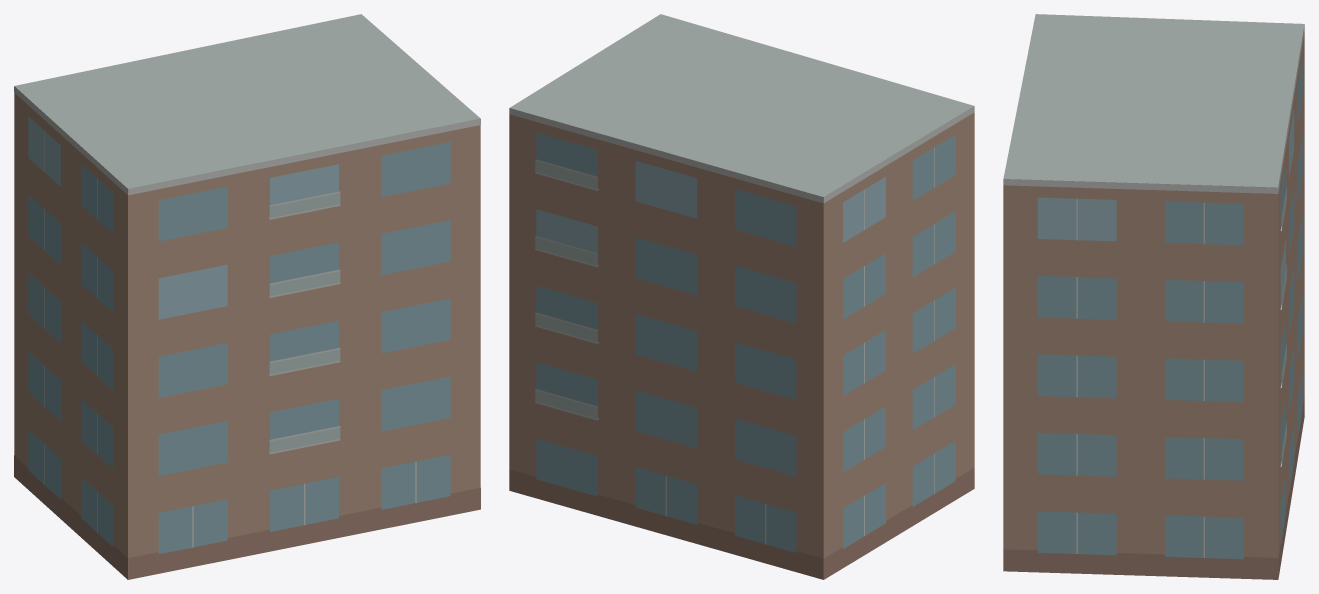
Rendered from survey-upis-32601051.glb.
3 renders of one model, left to right at view 1: azimuth 30°, elevation 25°; view 2: azimuth 150°, elevation 25°; view 3: azimuth 270°, elevation 25°, orthographic. The views are drawn at different scales.
Visible parts, largest first — view 1: survey-upis-32601051.tmp; view 2: survey-upis-32601051.tmp; view 3: survey-upis-32601051.tmp.
Boxes of the visible parts, x1,y1,x2,y2 form: survey-upis-32601051.tmp: (14, 14, 480, 579); survey-upis-32601051.tmp: (509, 14, 974, 579); survey-upis-32601051.tmp: (1003, 14, 1304, 579).
Bounding box in the file's own units: 14.09 × 14.85 × 10.34.
